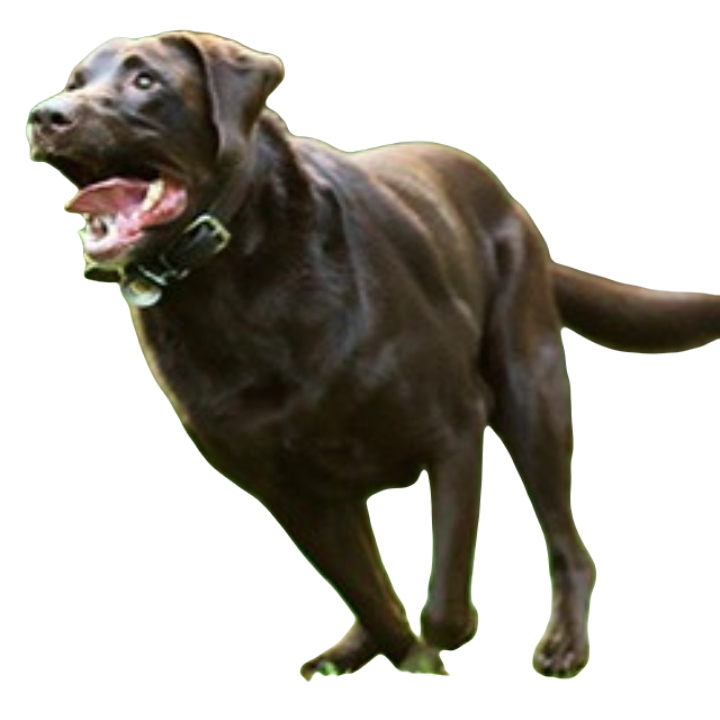Dog: (24, 28, 719, 683)
